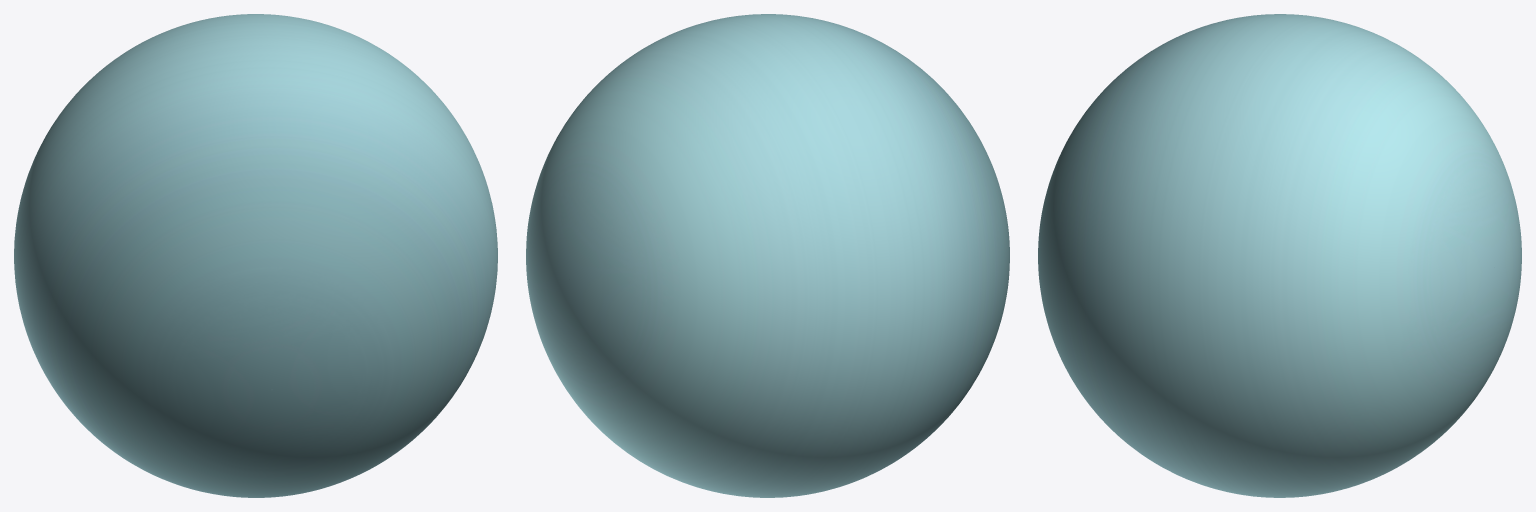
The model's file is uranus.glb.
3 views of the same model, side by side, from view 1: azimuth 30°, elevation 25°; view 2: azimuth 150°, elevation 25°; view 3: azimuth 270°, elevation 25° (orthographic).
Visible parts, largest first — view 1: Sphere; view 2: Sphere; view 3: Sphere.
Part boxes in pixels (left/top/right/bottom): Sphere: left=14, top=14, right=497, bottom=497; Sphere: left=526, top=14, right=1009, bottom=497; Sphere: left=1038, top=14, right=1521, bottom=497.
Size of the model in its own units: 2 by 2 by 2.
Materials: 1 (1 with a texture image).
